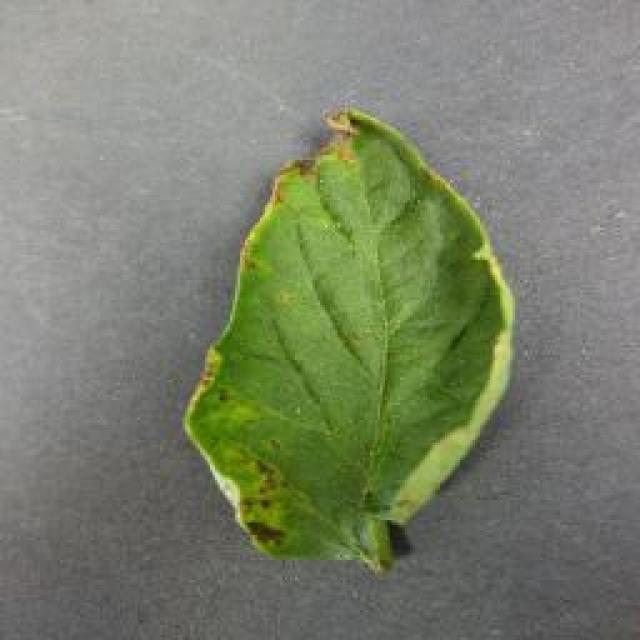Tomato bacterial spot leaf: (182, 101, 516, 568)
